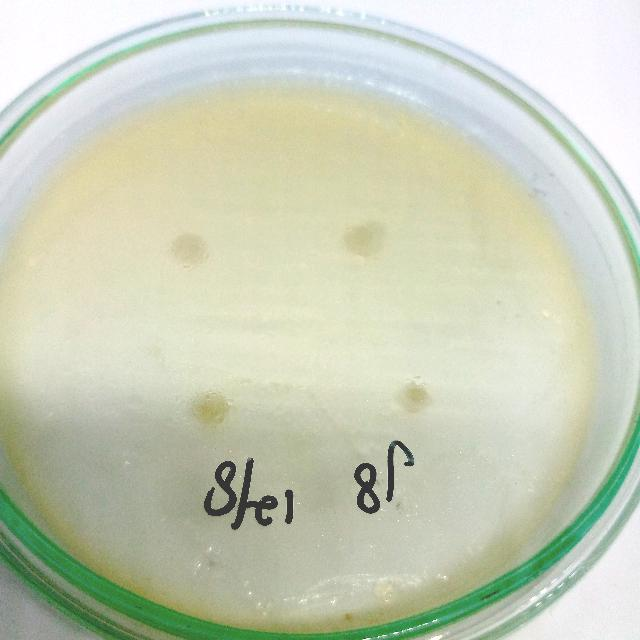colony: (388, 368, 442, 427), (338, 210, 389, 266), (180, 384, 234, 436), (162, 226, 212, 272)
